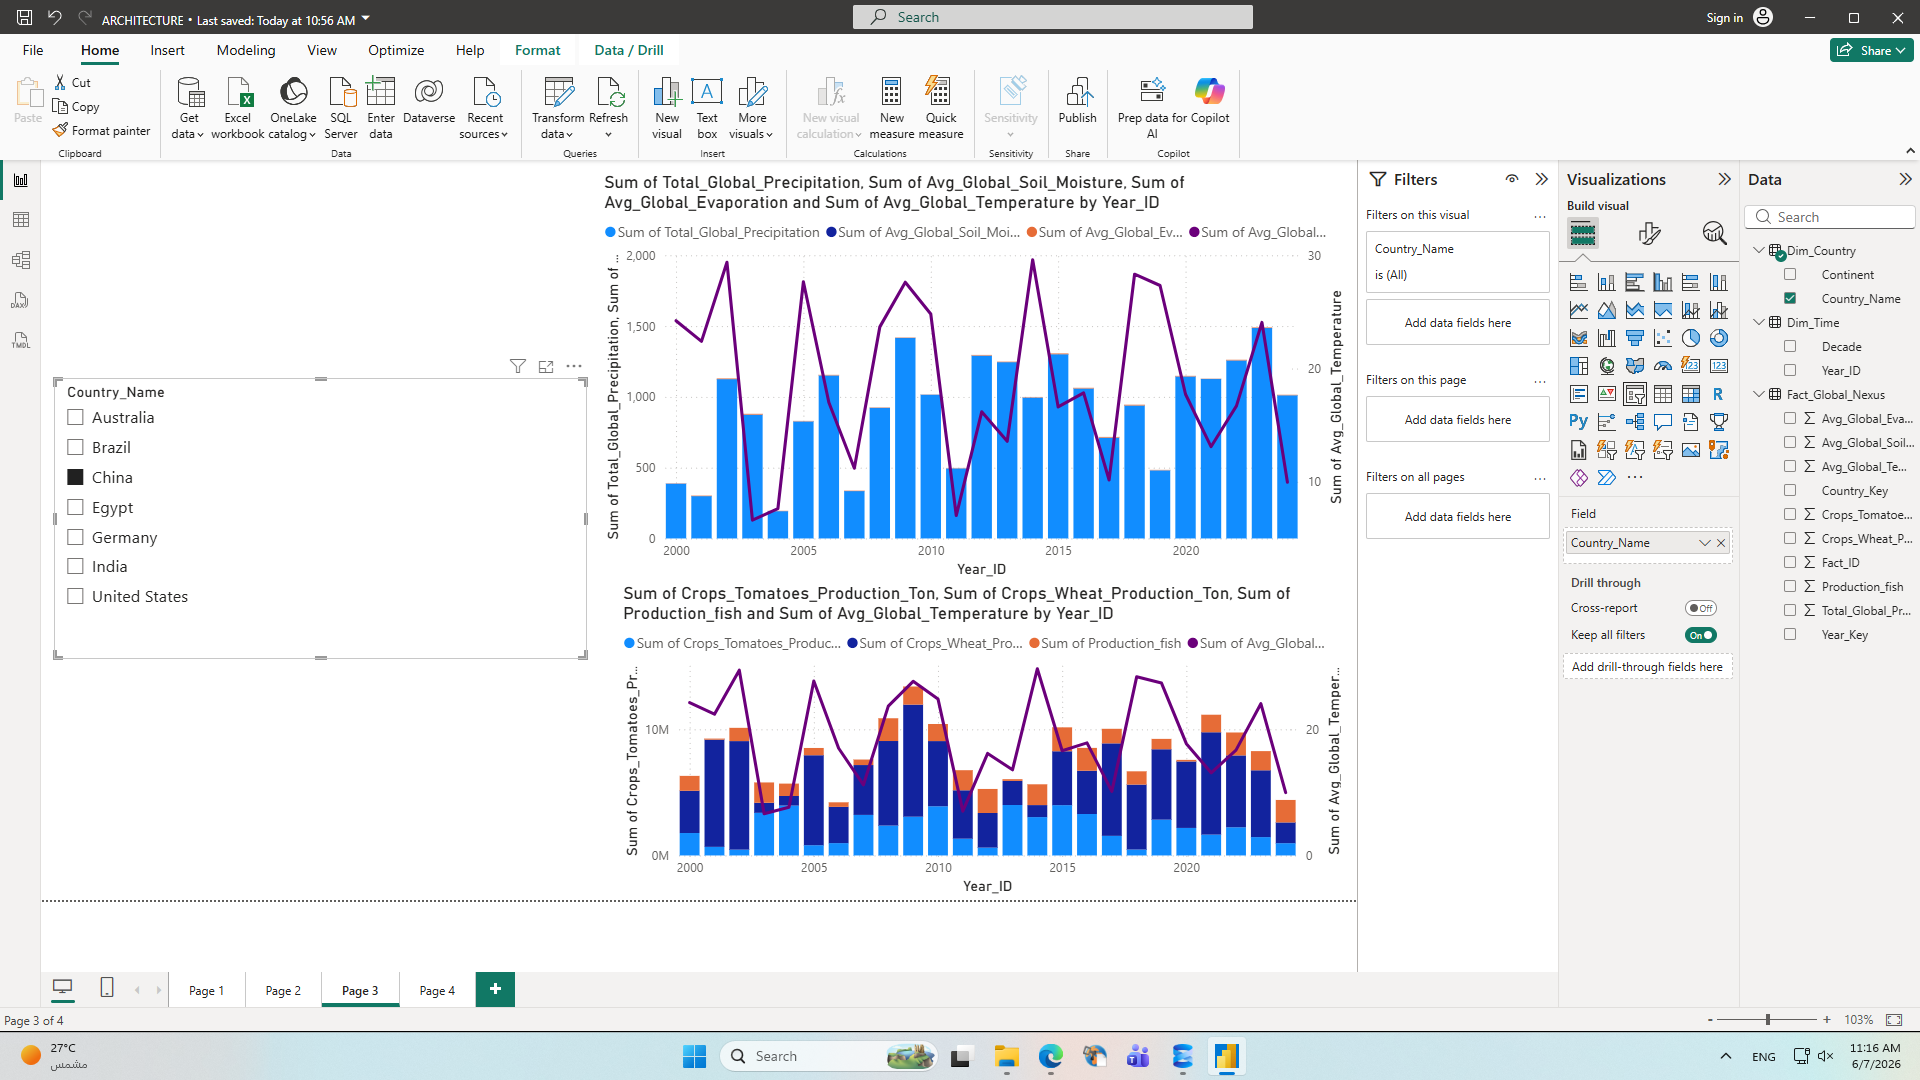

What the dashboard file says about the page in this screenshot:
{"tool":"powerbi","page":{"name":"Page 3","canvas":[1280,720],"ordinal":2},"visuals":[{"type":"lineStackedColumnComboChart","fields":{"Category":["Dim_Time.Year_ID"],"Y":["Sum(Fact_Global_Nexus.Total_Global_Precipitation)","Sum(Fact_Global_Nexus.Avg_Global_Soil_Moisture)","Sum(Fact_Global_Nexus.Avg_Global_Evaporation)"],"Y2":["Sum(Fact_Global_Nexus.Avg_Global_Temperature)"]},"box":[542.7,11.7,728.5,399.8],"z":0},{"type":"slicer","fields":{"Values":["Dim_Country.Country_Name"]},"box":[12.6,212,518.4,273.3],"z":1000},{"type":"lineStackedColumnComboChart","fields":{"Category":["Dim_Time.Year_ID"],"Y":["Sum(Fact_Global_Nexus.Crops_Tomatoes_Production_Ton)","Sum(Fact_Global_Nexus.Crops_Wheat_Production_Ton)","Sum(Fact_Global_Nexus.Production_MT)"],"Y2":["Sum(Fact_Global_Nexus.Avg_Global_Temperature)"]},"box":[561.2,411.4,708.1,308.3],"z":2000}]}

Visuals, with their boxes on the page's 1280x720 design canvas (x1, y1, x2, y2). These are canvas units, not pixel positions in the 1920x1080 screenshot, which may show the page scaled, cropped or inside an application window:
lineStackedColumnComboChart - Dim_Time.Year_ID x Sum(Fact_Global_Nexus.Total_Global_Precipitation): select_region(543, 12, 1271, 412)
slicer - Dim_Country.Country_Name: select_region(13, 212, 531, 485)
lineStackedColumnComboChart - Dim_Time.Year_ID x Sum(Fact_Global_Nexus.Crops_Tomatoes_Production_Ton): select_region(561, 411, 1269, 720)
